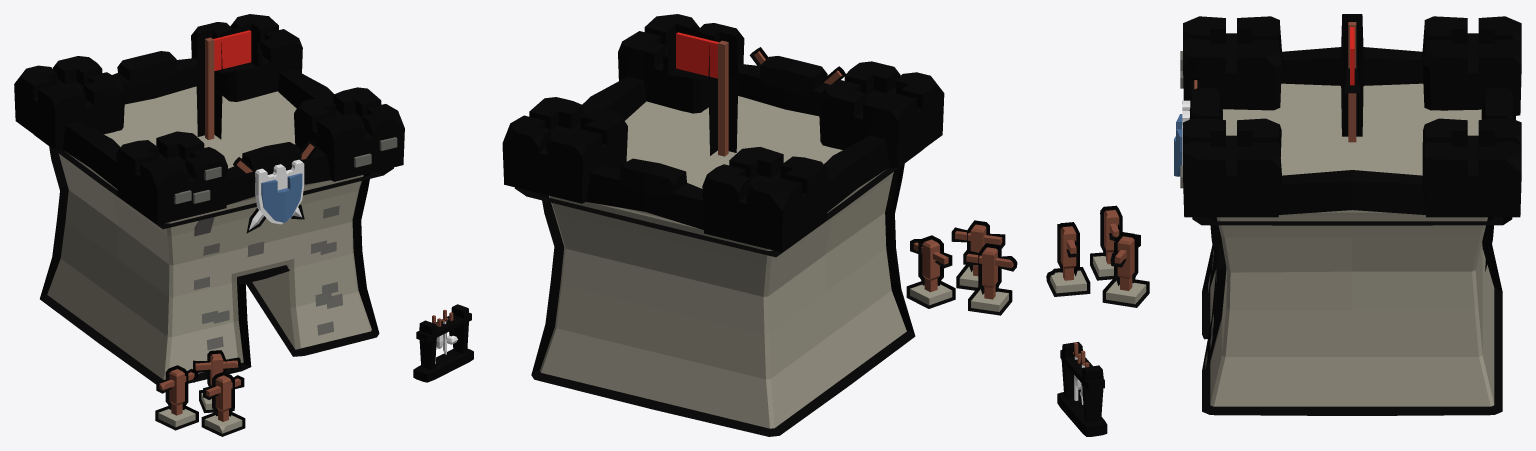
Rendered from Camp_fbx.fbx.
3 views of the same model, side by side, from view 1: azimuth 30°, elevation 25°; view 2: azimuth 150°, elevation 25°; view 3: azimuth 270°, elevation 25° (orthographic). The views are drawn at different scales.
Visible parts, largest first — view 1: 立方体, 立方体.001, 立方体.002, 立方体.007, 立方体.003, 立方体.009, 立方体.006, 立方体.008, 立方体.005; view 2: 立方体, 立方体.001, 立方体.002, 立方体.009, 立方体.008, 立方体.006; view 3: 立方体, 立方体.001, 立方体.007, 立方体.002, 立方体.008, 立方体.006, 立方体.009, 立方体.003.
Part boxes in pixels (<box>): 立方体: <box>34,86,393,384</box>; 立方体.001: <box>14,14,404,224</box>; 立方体.002: <box>196,22,258,139</box>; 立方体.007: <box>413,304,473,382</box>; 立方体.003: <box>255,159,304,224</box>; 立方体.009: <box>155,365,198,430</box>; 立方体.006: <box>201,371,245,436</box>; 立方体.008: <box>193,350,241,413</box>; 立方体.005: <box>233,140,318,233</box>; 立方体: <box>514,96,924,436</box>; 立方体.001: <box>502,14,944,252</box>; 立方体.002: <box>668,24,738,156</box>; 立方体.009: <box>963,243,1017,315</box>; 立方体.008: <box>906,235,955,308</box>; 立方体.006: <box>951,220,1005,290</box>; 立方体: <box>1192,83,1512,415</box>; 立方体.001: <box>1183,16,1521,217</box>; 立方体.007: <box>1057,342,1107,436</box>; 立方体.002: <box>1340,14,1363,142</box>; 立方体.008: <box>1102,232,1149,307</box>; 立方体.006: <box>1046,222,1090,296</box>; 立方体.009: <box>1090,205,1122,280</box>; 立方体.003: <box>1174,100,1190,176</box>.
Size of the model in its own units: 281 by 247 by 318.
